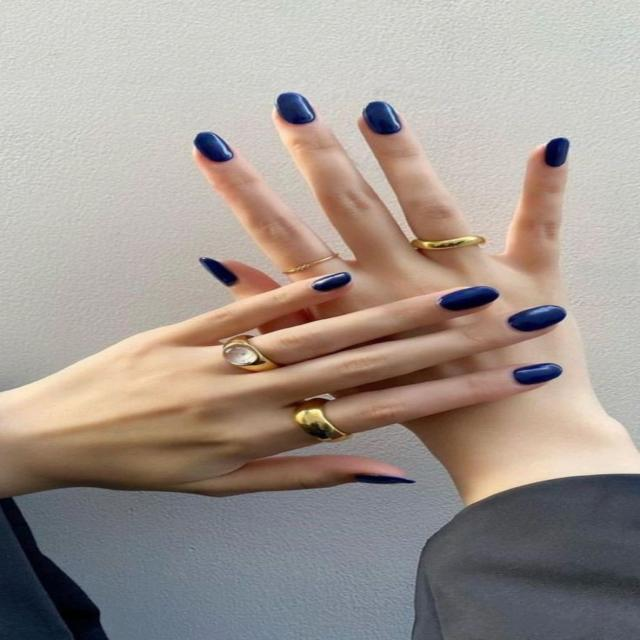Fingernail: (509, 305, 566, 333), (440, 287, 498, 312), (365, 101, 402, 135), (277, 91, 315, 124), (200, 257, 240, 286), (195, 131, 233, 161), (513, 364, 564, 386), (544, 139, 571, 169), (315, 272, 351, 293)
